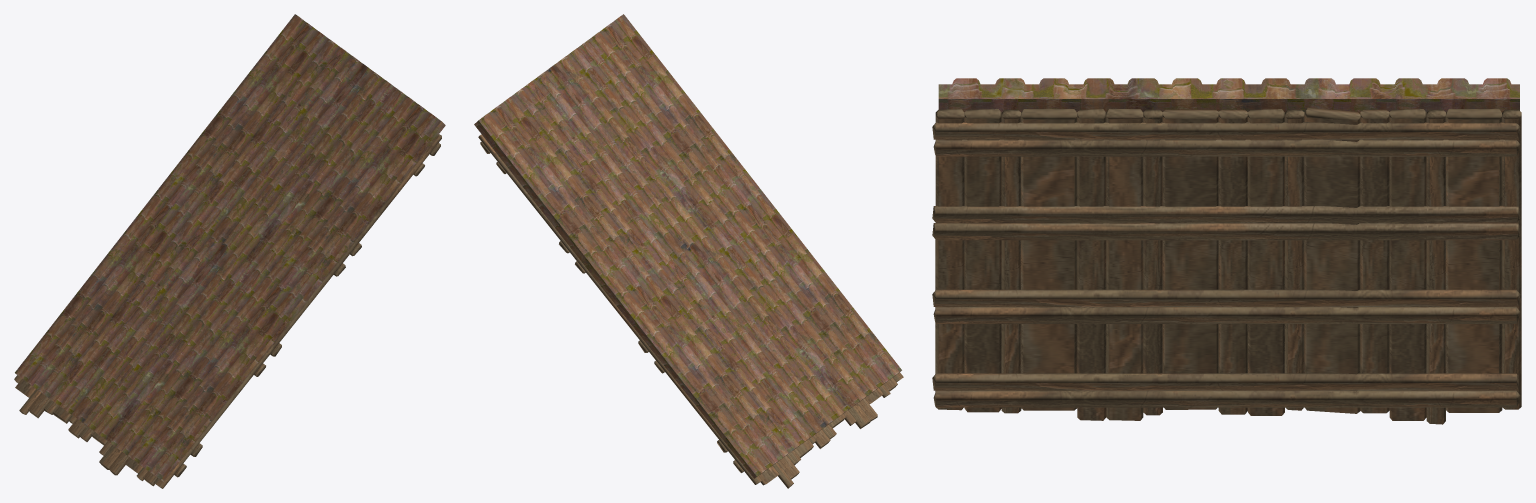
The model's file is SM_roof_03_base_01.fbx.
3 views of the same model, side by side, from view 1: azimuth 30°, elevation 25°; view 2: azimuth 150°, elevation 25°; view 3: azimuth 270°, elevation 25° (orthographic). The views are drawn at different scales.
Visible parts, largest first — view 1: SM_roof_03_base_01_LOD0; view 2: SM_roof_03_base_01_LOD0; view 3: SM_roof_03_base_01_LOD0.
Part boxes in pixels (x1=…): SM_roof_03_base_01_LOD0: x1=14, y1=14, x2=445, y2=488; SM_roof_03_base_01_LOD0: x1=474, y1=14, x2=903, y2=488; SM_roof_03_base_01_LOD0: x1=932, y1=78, x2=1521, y2=424.
Bounding box in the file's own units: 472 × 406 × 477.
Materials: 2 (2 with a texture image).
